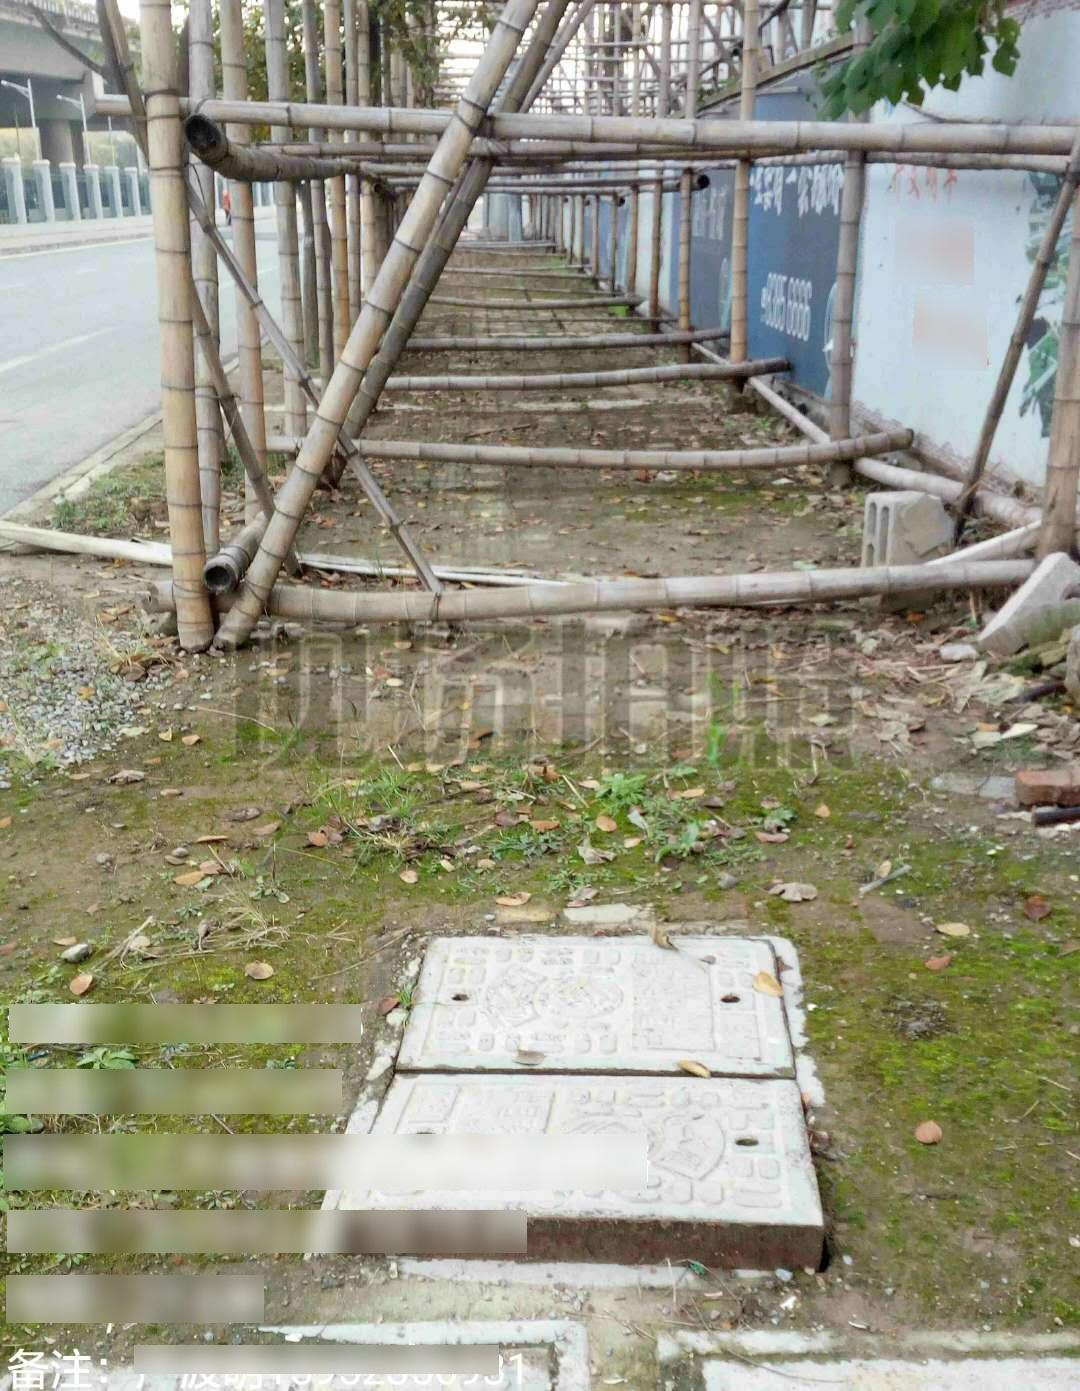wellcover: (306, 909, 868, 1306)
